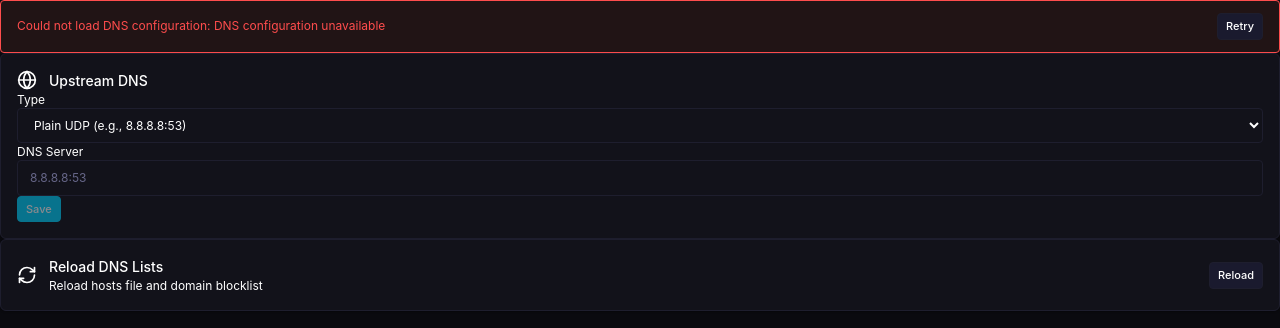
Test: DnsTab › keeps load failures visible and retryable
Expected: the message shows "DNS configuration unavailable", [17,18,385,33]
Click the button "Retry": (1240, 26) [1217,13,1263,40]
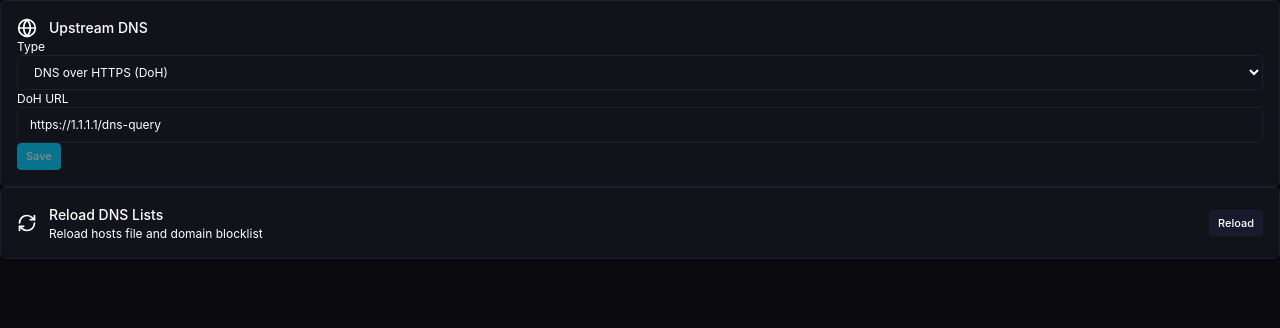
Expected: the field labelled "DoH URL" holds "https://1.1.1.1/dns-query", [17,107,1263,143]
Expected: the message "Could not load DNS configuration: DNS configuration unavailable Retry" is gone
